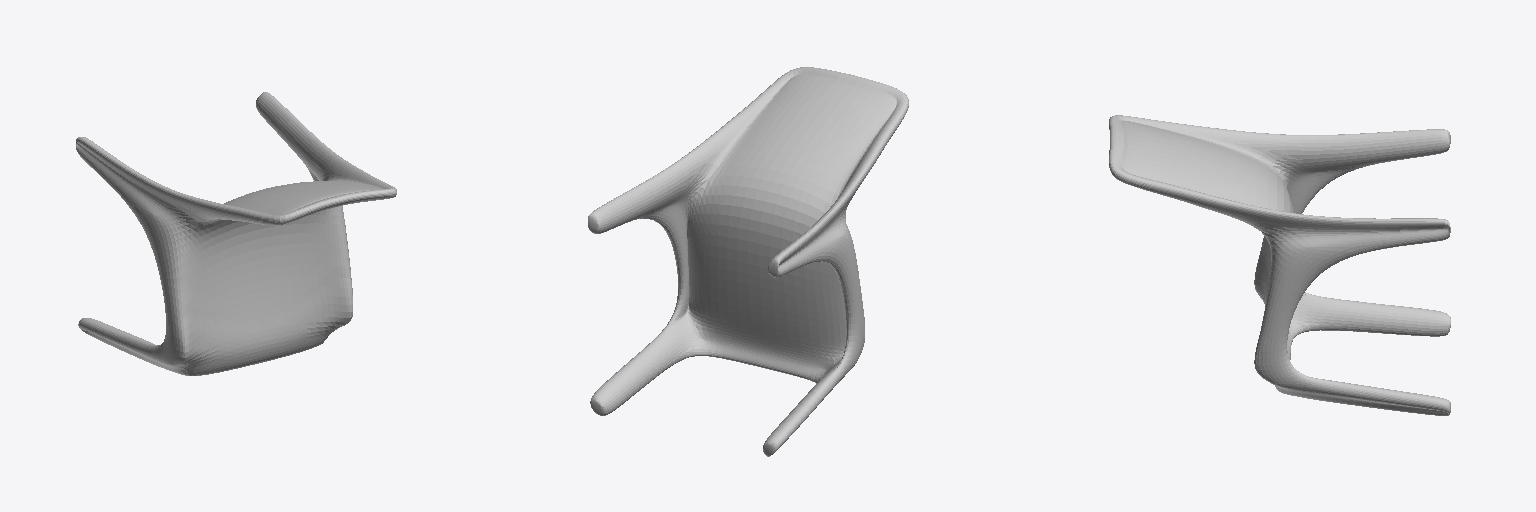
The model's file is 20335_Bofinger_Chair_V1.obj.
The picture shows the model from 3 angles: view 1: azimuth 30°, elevation 25°; view 2: azimuth 150°, elevation 25°; view 3: azimuth 270°, elevation 25°; orthographic projection.
Parts seen in each view (by area): view 1: 20335_Bofinger_Chair; view 2: 20335_Bofinger_Chair; view 3: 20335_Bofinger_Chair.
Part boxes in pixels (x1,y1,x2,y2): 20335_Bofinger_Chair: (76,92,396,375); 20335_Bofinger_Chair: (588,67,908,456); 20335_Bofinger_Chair: (1109,115,1450,415).
Size of the model in its own units: 5.26 by 6.31 by 8.17.